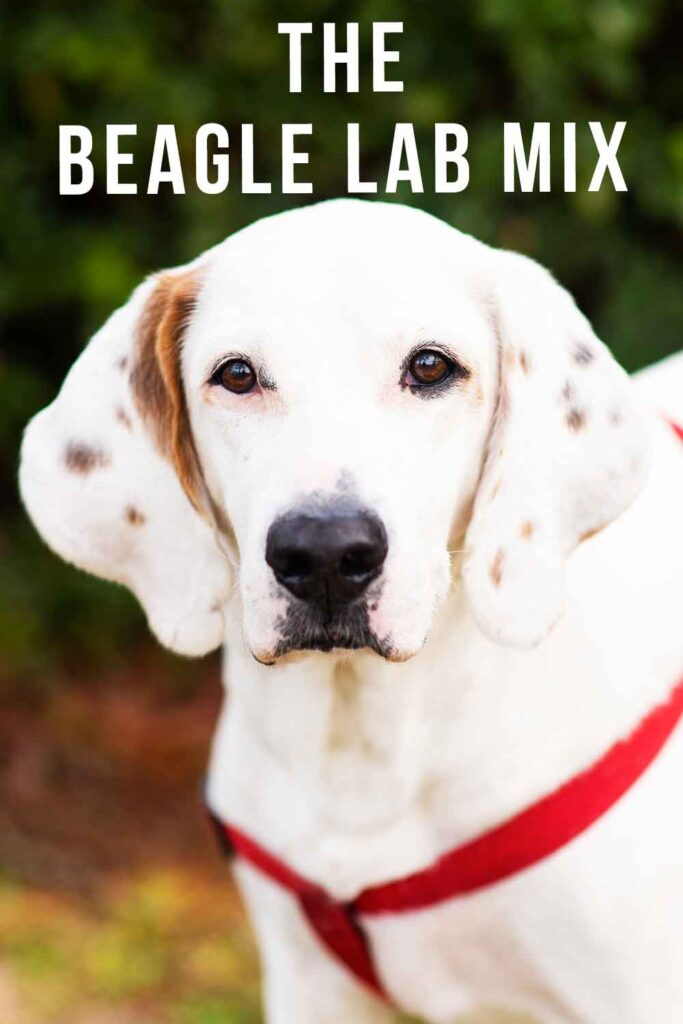dog: (17, 200, 683, 1024)
